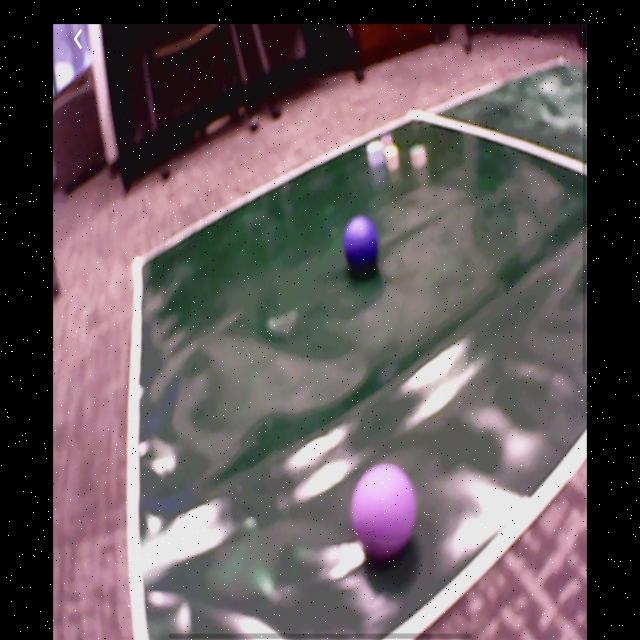ball: (354, 463, 417, 563), (344, 217, 379, 267)
